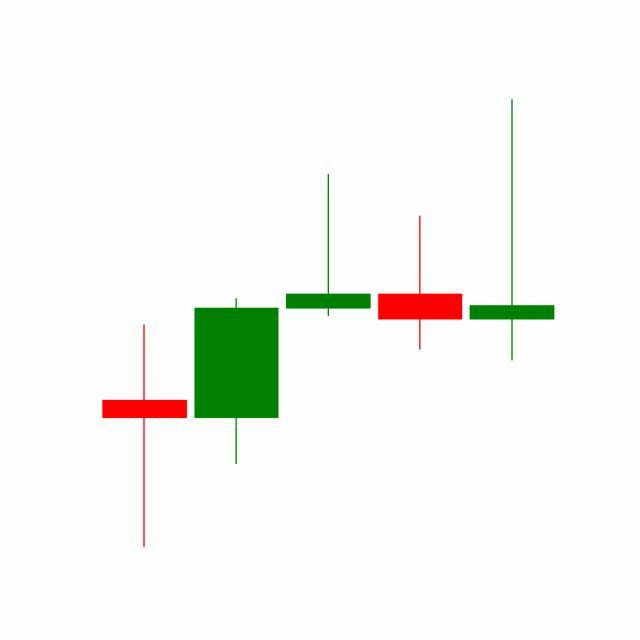Spinning Top: (466, 97, 559, 365)
